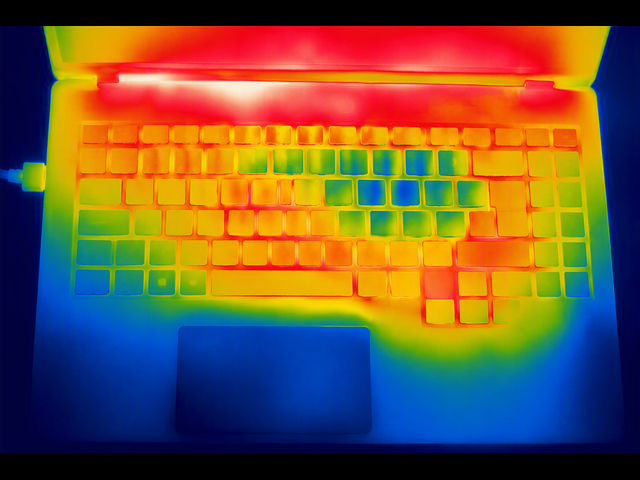c_cover: (33, 80, 630, 453)
